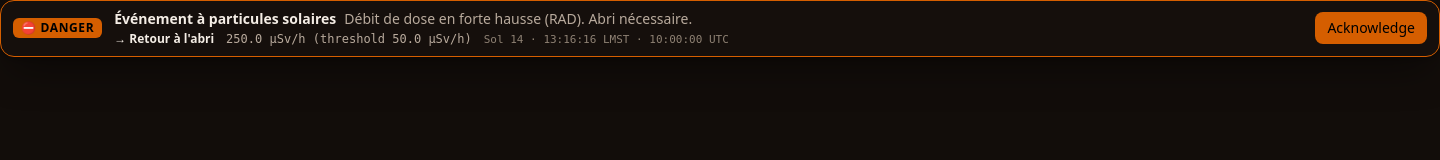
Test: bandeau d'alertes › affiche une alerte danger reçue par WebSocket en moins de 1 s et l'acquitte en une action
This screenshot has width=1440, height=160.
Later steps or results of the test are not shown.
Expected: the message shows "⛔", [21,19,37,36]
Expected: the message shows "Danger", [41,19,94,36]
A single action to acknowledge.
Click the button "Acknowledge". click: x=1371, y=28
box: [1315,12,1427,44]
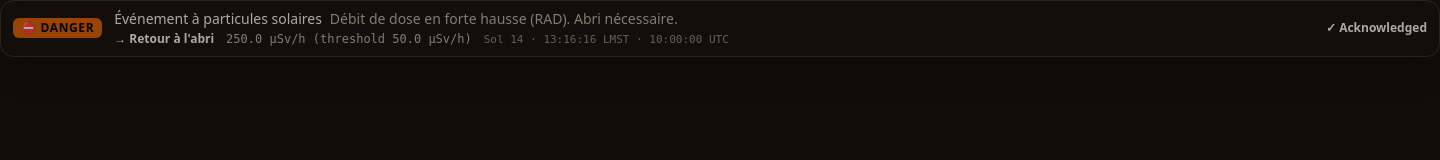
Expected: the text "✓ Acknowledged" is shown, [1326,20,1427,36]
